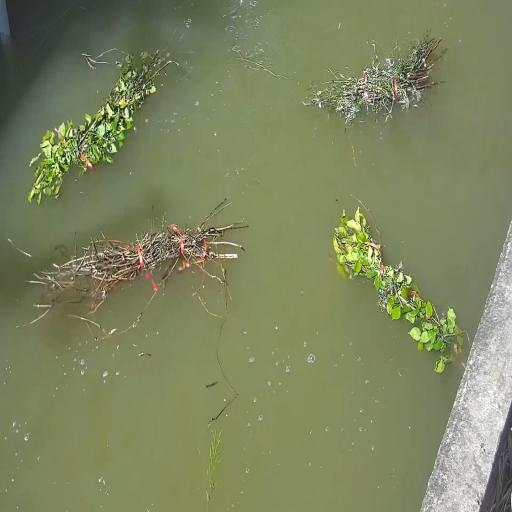twig: (32, 52, 168, 208), (338, 210, 457, 362), (64, 222, 224, 314), (328, 44, 437, 132)
